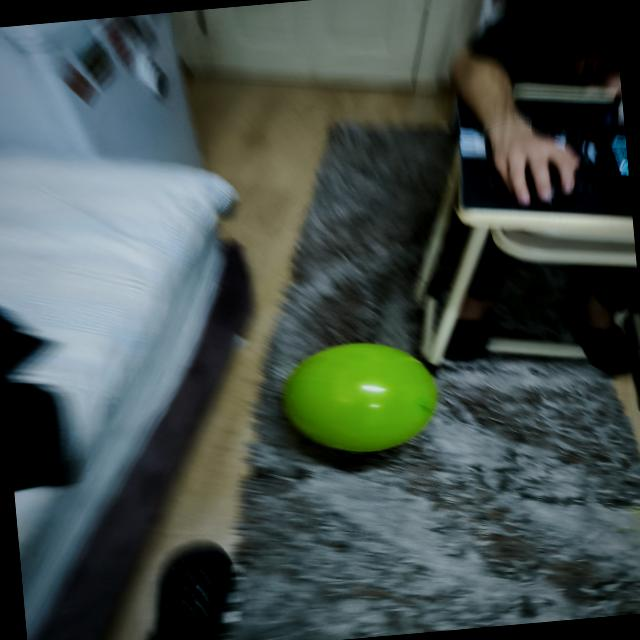balloon: (283, 343, 437, 451)
